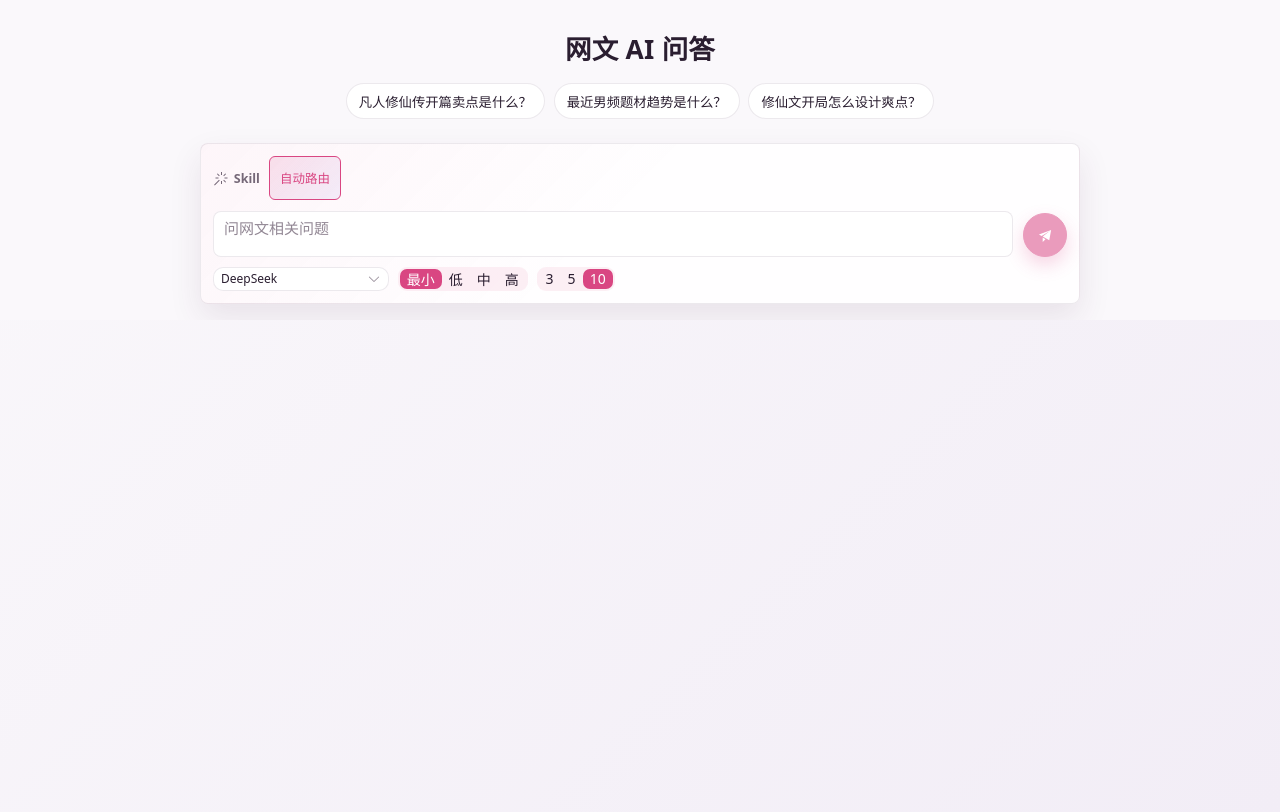
Test: KnowledgeChatView › shows degraded fallback state on assistant answers
Type "测试降级回答" into the text box with placeholder "问网文相关问题" at (613, 234), box x1=213 y1=211 x2=1013 y2=257
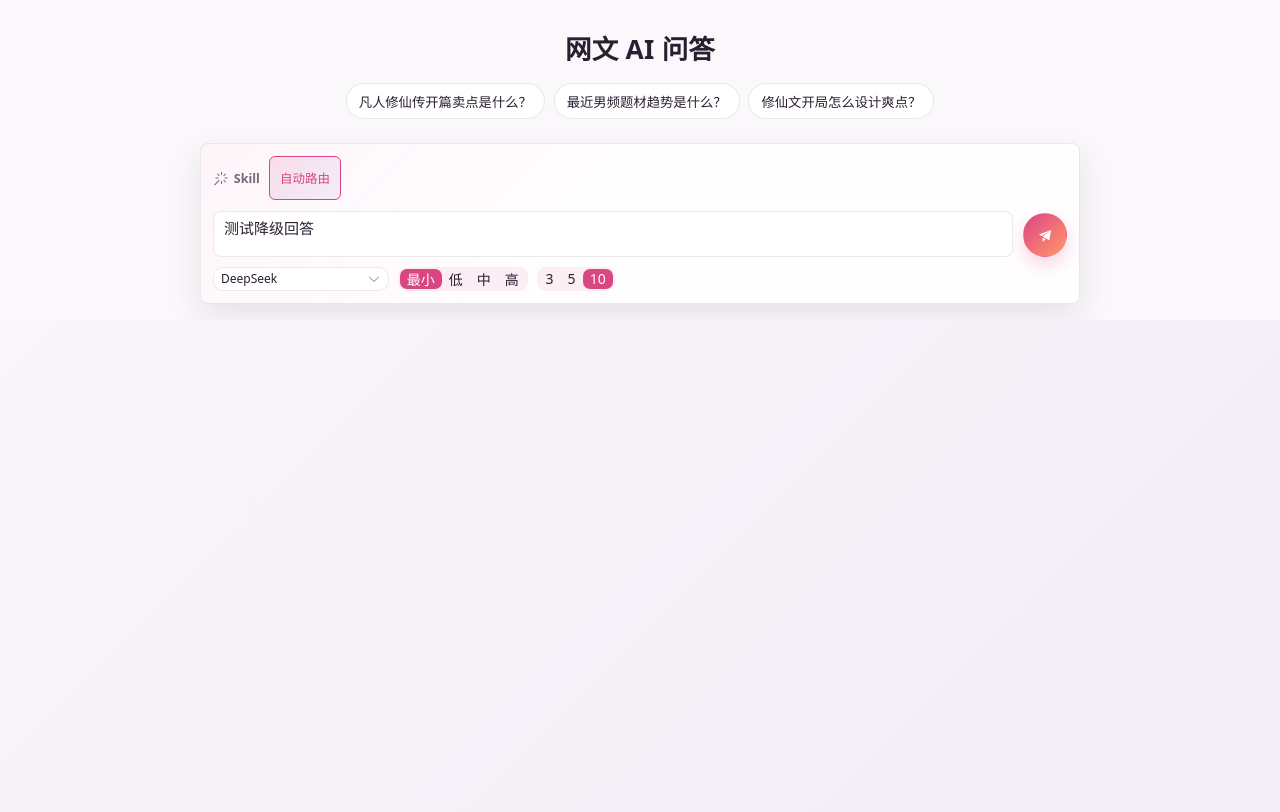
Click the button with test id "knowledge-send-button" at (1045, 235), box x1=1023 y1=213 x2=1067 y2=257
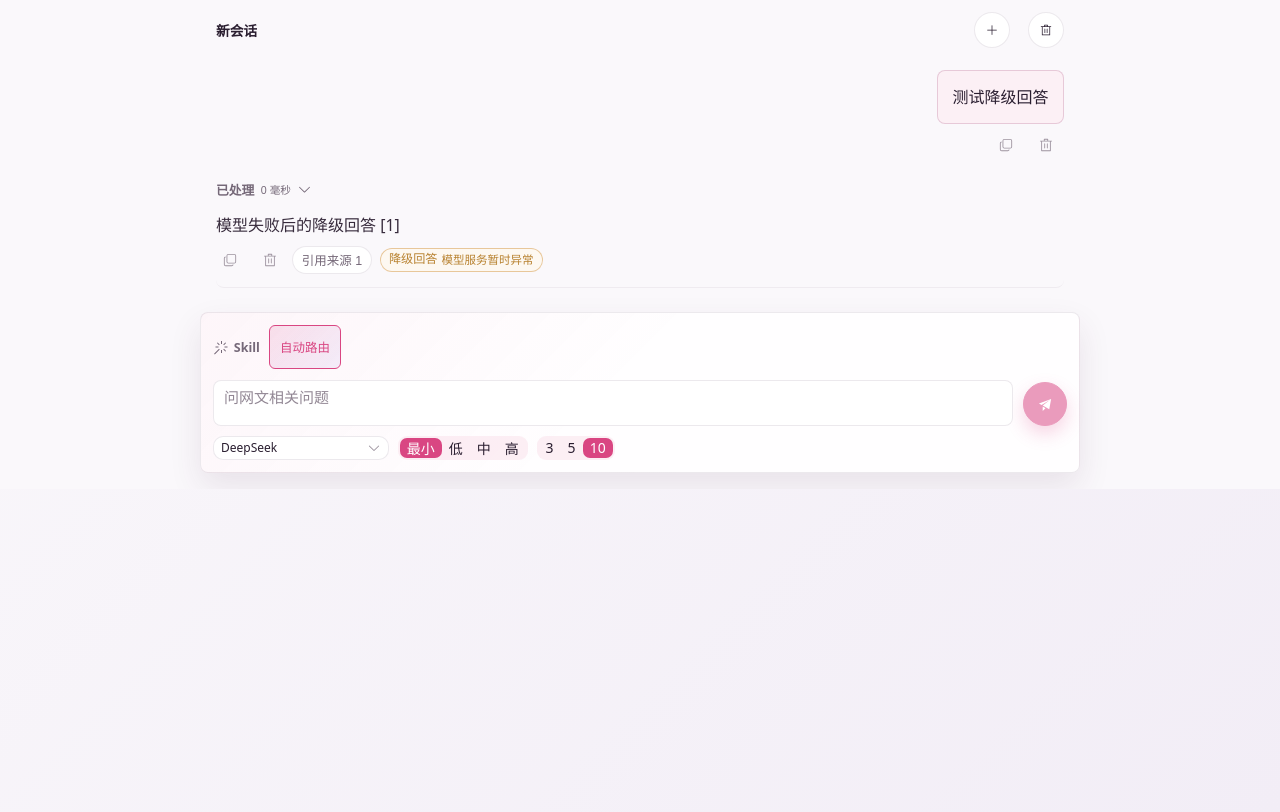
Now the text "模型失败后的降级回答" is shown, box x1=216 y1=214 x2=400 y2=236
Now the text "降级回答" is shown, box x1=953 y1=86 x2=1049 y2=108
Now the text "模型服务暂时异常" is shown, box x1=442 y1=254 x2=534 y2=265
